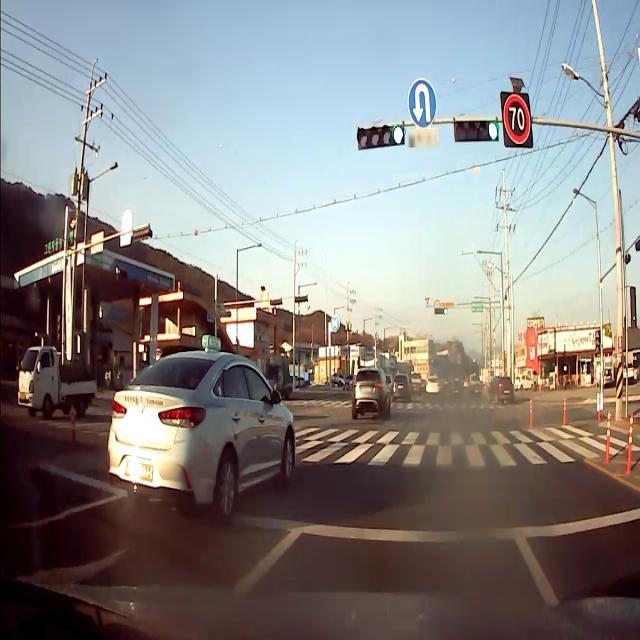Green Light: (391, 124, 405, 146), (487, 118, 499, 141), (443, 307, 448, 315)
